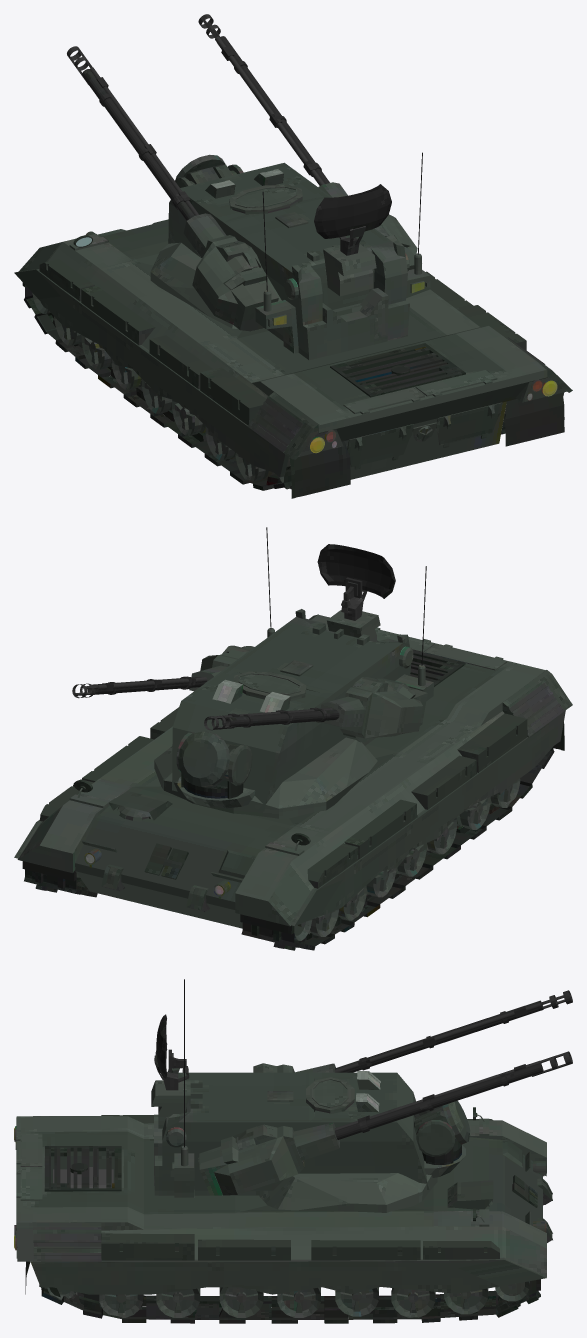
File: gepard.glb
3 renders of one model, top to bottom at view 1: azimuth 30°, elevation 25°; view 2: azimuth 150°, elevation 25°; view 3: azimuth 270°, elevation 25°, orthographic. The views are drawn at different scales.
Visible parts, largest first — view 1: Object_86, Object_7, Object_119, sphere_88, Object_241; view 2: Object_86, Object_7, Object_119, sphere_88; view 3: Object_86, Object_7, Object_119, sphere_88, Object_241.
Part boxes in pixels (x1,y1,x2,y2): Object_86: (14, 162, 572, 498); Object_7: (22, 154, 526, 490); Object_119: (67, 14, 422, 291); sphere_88: (314, 184, 391, 238); Object_241: (85, 231, 557, 453); Object_86: (14, 609, 572, 928); Object_7: (22, 707, 554, 950); Object_119: (72, 527, 426, 912); sphere_88: (317, 544, 395, 598); Object_86: (16, 1063, 552, 1294); Object_7: (39, 1100, 540, 1323); Object_119: (53, 979, 572, 1242); sphere_88: (155, 1014, 167, 1078); Object_241: (14, 1126, 546, 1250).
Size of the model in its own units: 4.78 by 4.15 by 8.63.
6 materials, 6 textured.
